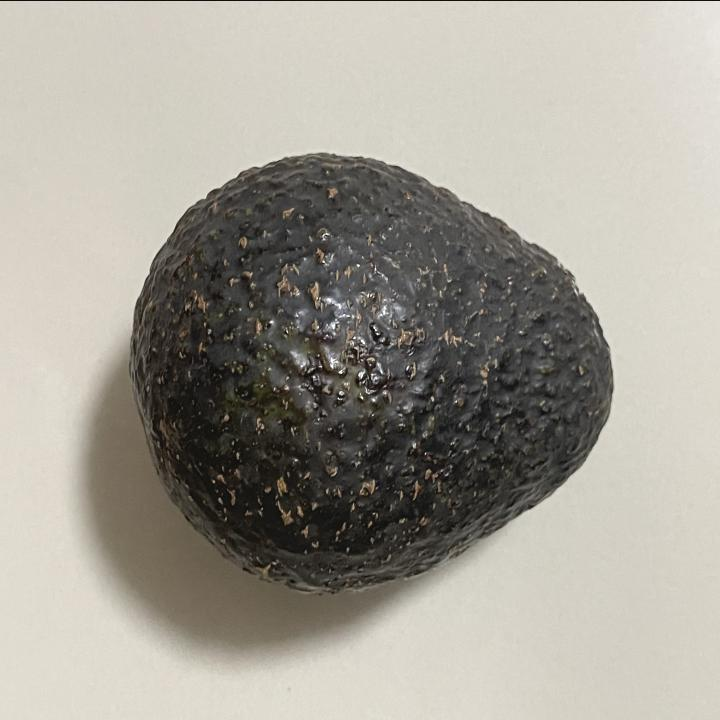Level3: (122, 145, 616, 604)
